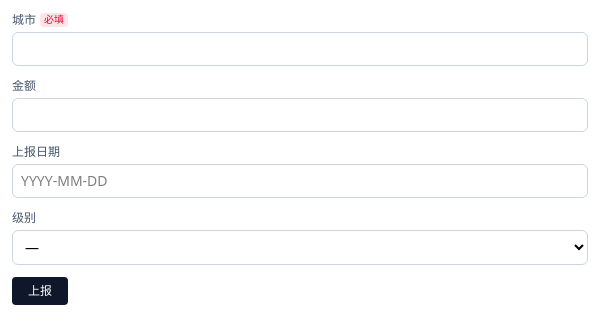
FormRuntime（public 态：公开 submit 端点） › 公开提交成功：POST 分享端点（t/v 透传、免登录）+ 响应 message 呈现
Type "京" into the field with test id "form-field-input" showing "城市 必填" at x=300, y=49, box [12,32,588,66]
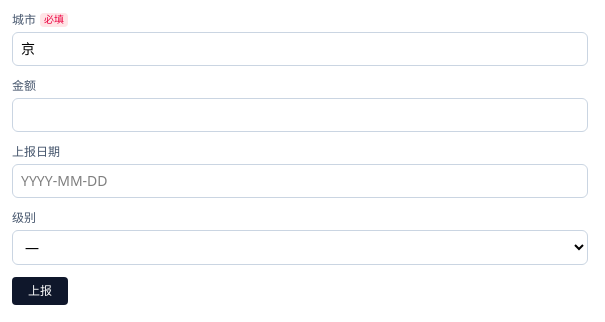
Type "8" into the field with test id "form-field-input" showing "金额" at x=300, y=115, box [12,98,588,132]
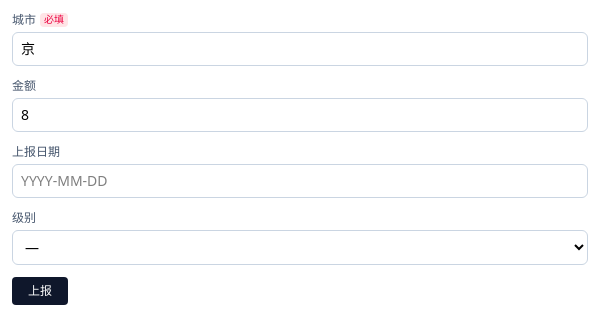
Click the button with test id "form-submit" at x=40, y=291, box [12,277,68,305]
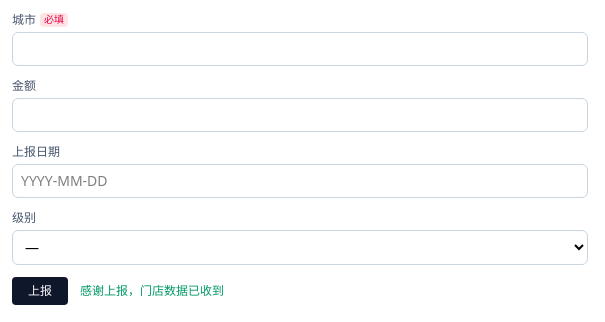
Expected: the text with test id "form-success" reads "感谢上报，门店数据已收到", [80,282,224,299]
Expected: the field with test id "form-field-input" is empty, [12,32,588,66]
